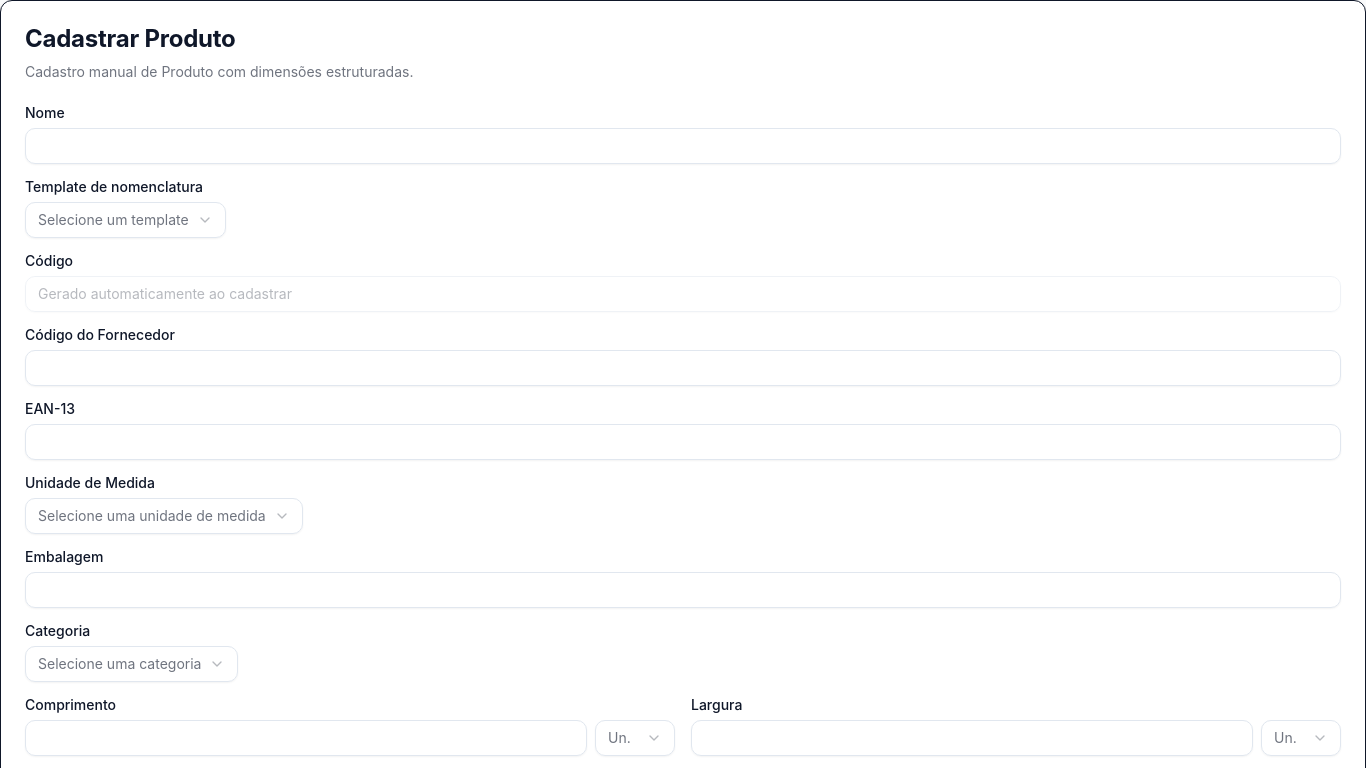
CadastroProdutoSection › carrega categorias no mount e popula os selects
Click the dropdown labelled "categoria" at (132, 664), box [25, 646, 238, 682]
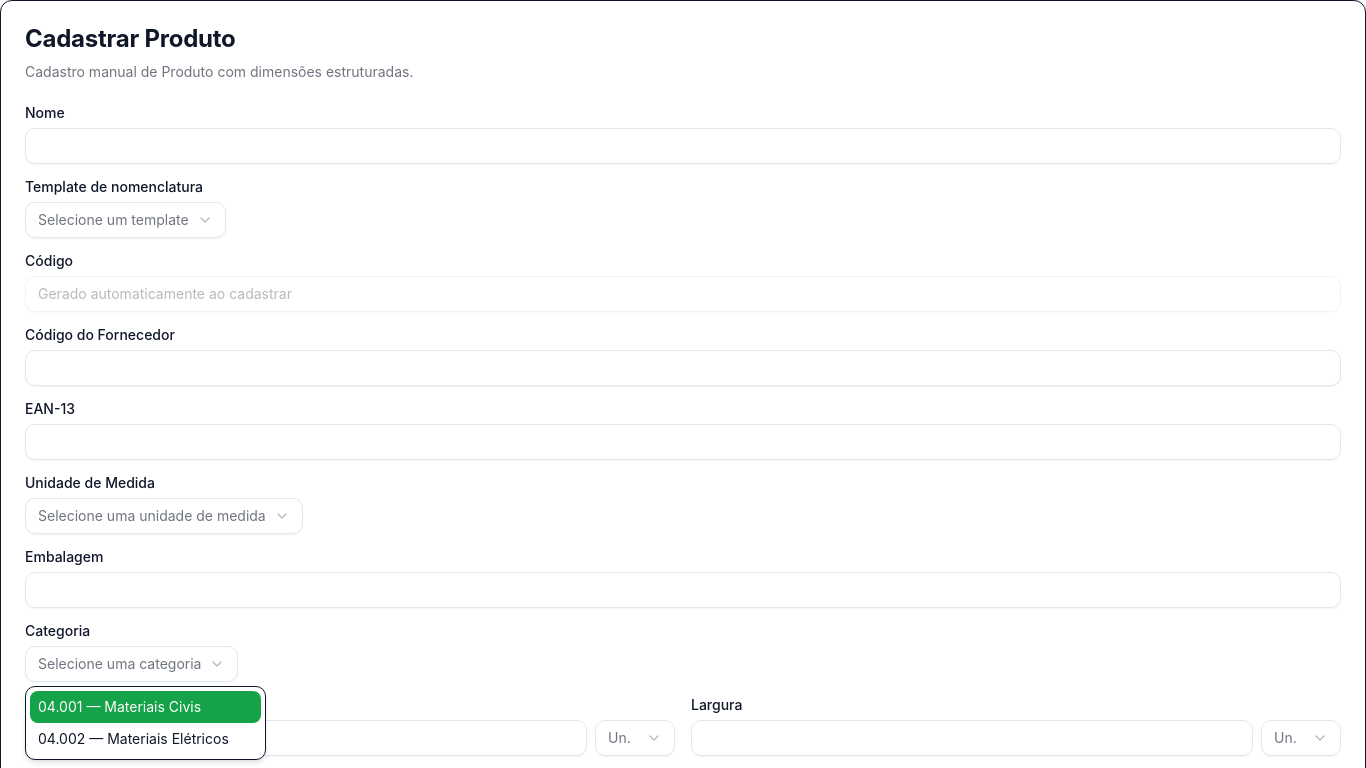
Expected: the option "04.001 — Materiais Civis" is shown, [30, 691, 261, 723]
Expected: the option "04.002 — Materiais Elétricos" is shown, [38, 730, 229, 747]
